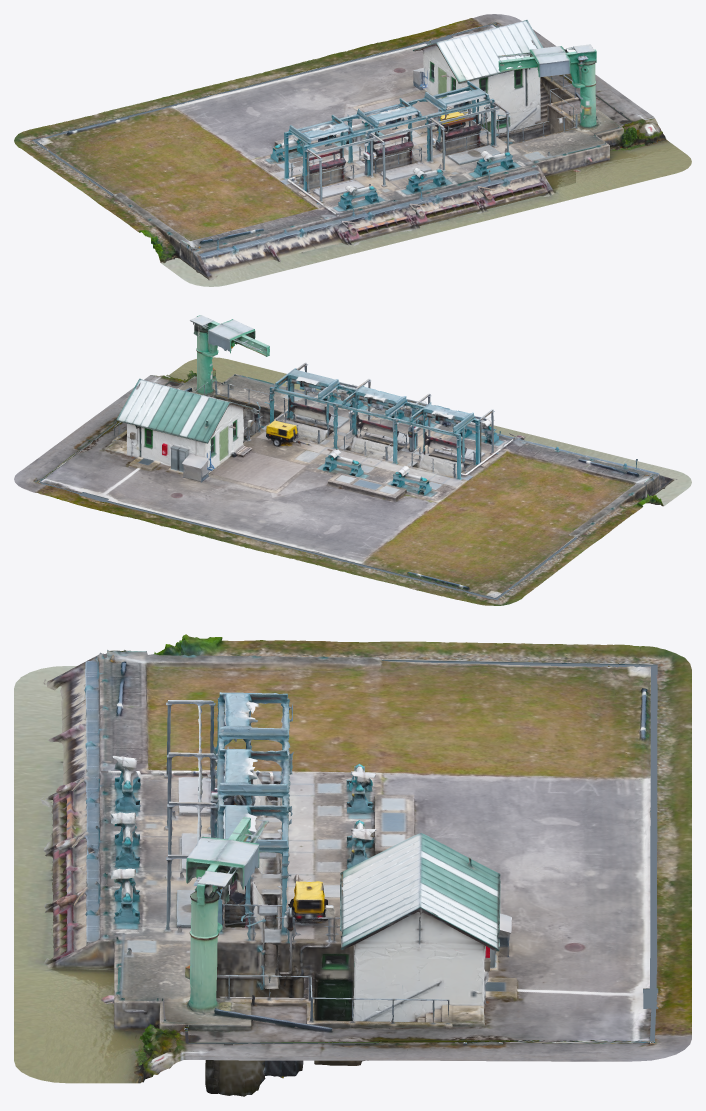
The model's file is danube_power-plant.glb.
3 renders of one model, top to bottom at view 1: azimuth 30°, elevation 25°; view 2: azimuth 150°, elevation 25°; view 3: azimuth 270°, elevation 25°, orthographic. The views are drawn at different scales.
Visible parts, largest first — view 1: DanubeFacilityRaw; view 2: DanubeFacilityRaw; view 3: DanubeFacilityRaw.
Boxes of the visible parts, left/top/right/bottom form: DanubeFacilityRaw: left=14, top=14, right=691, bottom=286; DanubeFacilityRaw: left=14, top=315, right=691, bottom=605; DanubeFacilityRaw: left=14, top=634, right=691, bottom=1096.
Size of the model in its own units: 35.13 by 9.2 by 23.89.
Materials: 2 (2 with a texture image).
